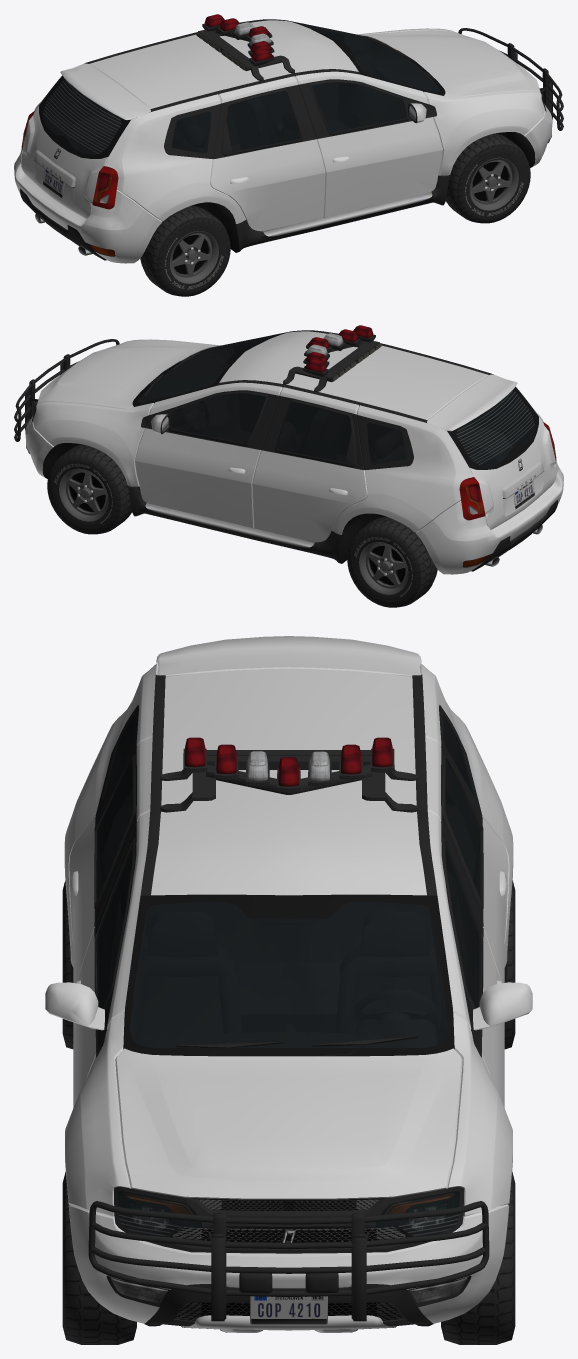
The model's file is Urban10_Cop.fbx.
3 renders of one model, top to bottom at view 1: azimuth 30°, elevation 25°; view 2: azimuth 150°, elevation 25°; view 3: azimuth 270°, elevation 25°, orthographic. The views are drawn at different scales.
Parts seen in each view (by area): view 1: Urban10_body, Urban10_Interior, Urban10_Bottom, Urban10_WheelLifted_RR, Urban10_WheelLifted_FR, Urban10_Bumper_Rear, Urban10_Body_Glass, Urban10_Glass_Rear, Urban10_Glass_Passenger, Urban10_Lightbar, Urban10_Windshield, Urban10_Bullbar (+3 smaller); view 2: Urban10_body, Urban10_Bottom, Urban10_Interior, Urban10_WheelLifted_RL, Urban10_WheelLifted_FL, Urban10_Bumper_Rear, Urban10_Body_Glass, Urban10_Glass_Rear, Urban10_Glass_Driver, Urban10_Lightbar, Urban10_Windshield, Urban10_Bullbar (+4 smaller); view 3: Urban10_body, Urban10_Interior, Urban10_Windshield, Urban10_Bottom, Urban10_Bumper_Front, Urban10_Bullbar, Urban10_Lightbar, Urban10_Bumper_Front_Inner, Urban10_Body_Glass, Urban10_Headlight_Glass, Urban10_WheelLifted_FL, Urban10_WheelLifted_FR (+7 smaller).
Boxes of the visible parts, x1=… form: Urban10_body: x1=21, y1=20, x2=544, y2=241; Urban10_Interior: x1=44, y1=23, x2=439, y2=154; Urban10_Bottom: x1=22, y1=19, x2=546, y2=255; Urban10_WheelLifted_RR: x1=140, y1=205, x2=230, y2=296; Urban10_WheelLifted_FR: x1=446, y1=133, x2=530, y2=223; Urban10_Bumper_Rear: x1=14, y1=149, x2=162, y2=263; Urban10_Body_Glass: x1=171, y1=90, x2=300, y2=153; Urban10_Glass_Rear: x1=43, y1=79, x2=121, y2=155; Urban10_Glass_Passenger: x1=312, y1=82, x2=406, y2=132; Urban10_Lightbar: x1=196, y1=14, x2=294, y2=80; Urban10_Windshield: x1=296, y1=22, x2=439, y2=92; Urban10_Bullbar: x1=458, y1=28, x2=563, y2=130; Urban10_body: x1=33, y1=331, x2=556, y2=552; Urban10_Bottom: x1=31, y1=330, x2=555, y2=566; Urban10_Interior: x1=138, y1=334, x2=533, y2=465; Urban10_WheelLifted_RL: x1=347, y1=516, x2=437, y2=607; Urban10_WheelLifted_FL: x1=47, y1=444, x2=131, y2=534; Urban10_Bumper_Rear: x1=415, y1=460, x2=563, y2=574; Urban10_Body_Glass: x1=277, y1=401, x2=406, y2=464; Urban10_Glass_Rear: x1=456, y1=390, x2=534, y2=466; Urban10_Glass_Driver: x1=171, y1=393, x2=265, y2=443; Urban10_Lightbar: x1=283, y1=325, x2=381, y2=391; Urban10_Windshield: x1=138, y1=333, x2=281, y2=403; Urban10_Bullbar: x1=14, y1=339, x2=119, y2=441; Urban10_body: x1=45, y1=636, x2=532, y2=1216; Urban10_Interior: x1=98, y1=718, x2=479, y2=1047; Urban10_Windshield: x1=130, y1=901, x2=447, y2=1047; Urban10_Bottom: x1=68, y1=674, x2=509, y2=1253; Urban10_Bumper_Front: x1=68, y1=1204, x2=509, y2=1323; Urban10_Bullbar: x1=88, y1=1201, x2=489, y2=1321; Urban10_Lightbar: x1=160, y1=737, x2=417, y2=812; Urban10_Bumper_Front_Inner: x1=106, y1=1276, x2=471, y2=1332; Urban10_Body_Glass: x1=96, y1=715, x2=481, y2=901; Urban10_Headlight_Glass: x1=118, y1=1191, x2=459, y2=1236; Urban10_WheelLifted_FL: x1=441, y1=1172, x2=515, y2=1344; Urban10_WheelLifted_FR: x1=62, y1=1172, x2=136, y2=1344.
Size of the model in its own units: 4.36 by 1.7 by 1.88.
